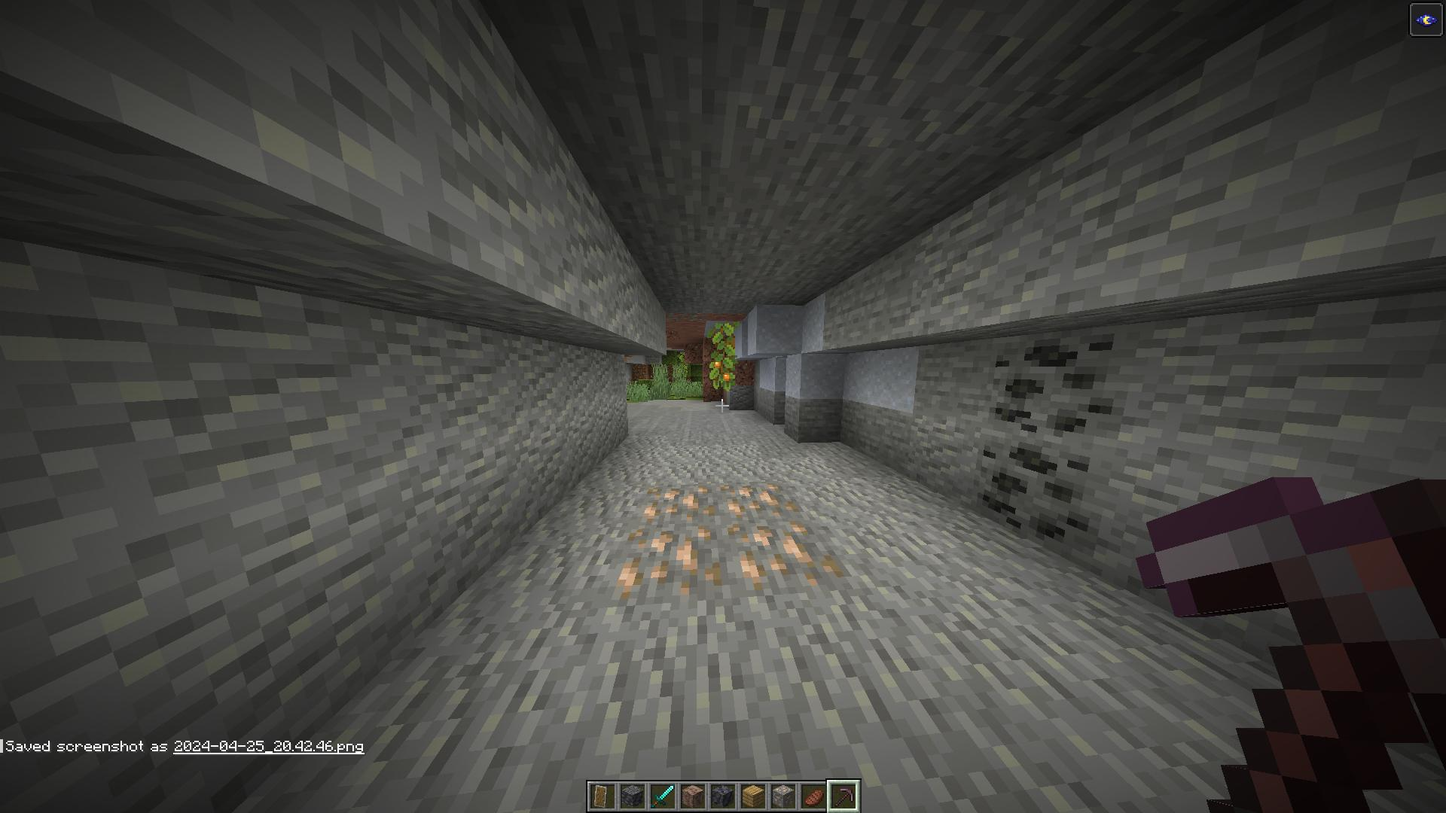iron ore: (729, 515, 833, 588), (629, 528, 727, 599), (639, 484, 720, 523), (723, 481, 798, 516)
